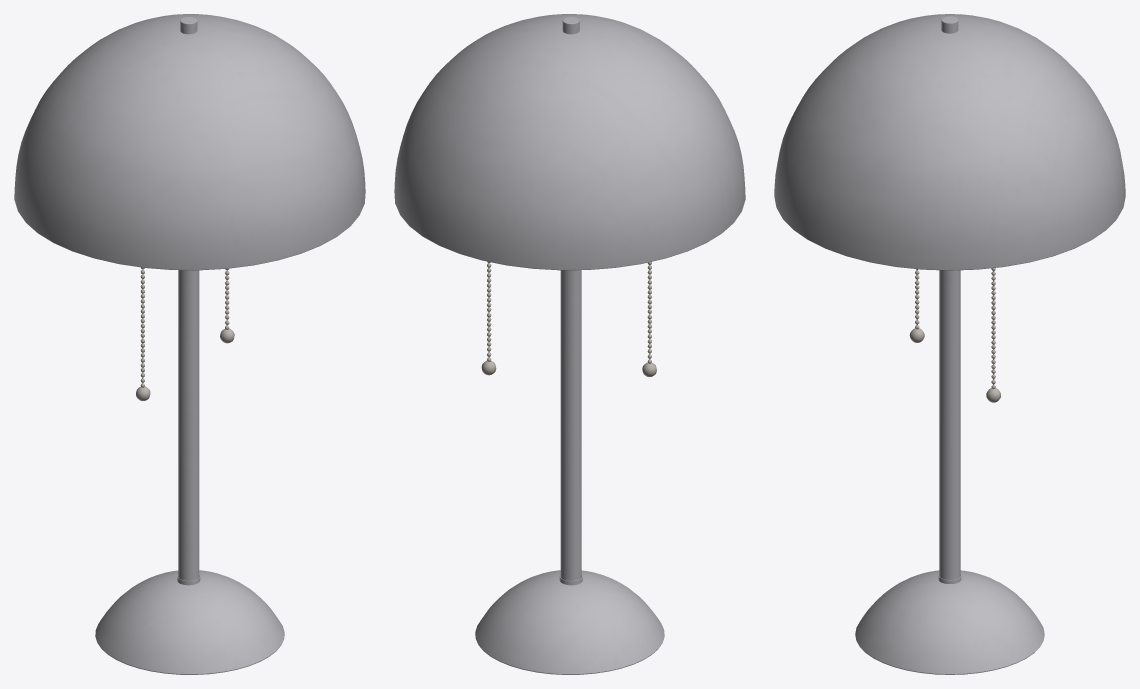
The model's file is abo-B07HK3HJ1Q.glb.
3 views of the same model, side by side, from view 1: azimuth 30°, elevation 25°; view 2: azimuth 150°, elevation 25°; view 3: azimuth 270°, elevation 25° (orthographic).
Bounding box in the file's own units: 0.171 × 0.33 × 0.171.
1 material, 1 textured.
